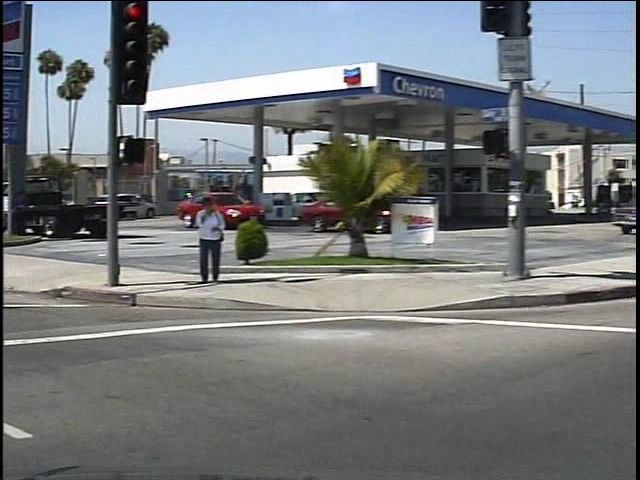person: (186, 194, 221, 289)
